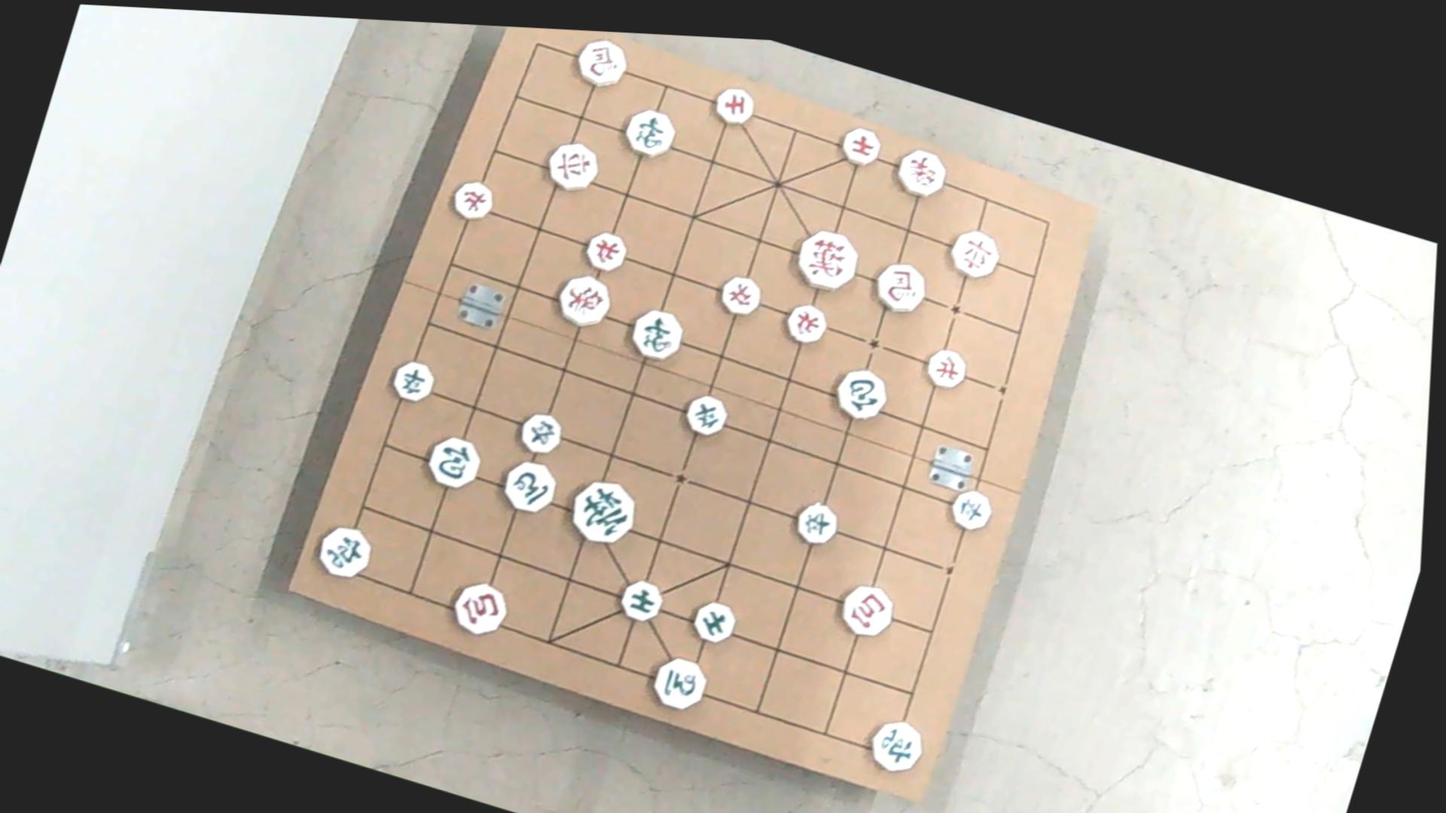cha_green: (862, 713, 926, 776), (313, 519, 376, 582)
cha_red: (542, 136, 602, 194), (945, 224, 1003, 282)
jol_green: (944, 484, 994, 534), (680, 391, 730, 440), (792, 499, 840, 550), (517, 409, 566, 458), (389, 356, 438, 404)
jol_red: (715, 271, 764, 319), (582, 228, 630, 276), (782, 300, 830, 347), (450, 175, 497, 222), (923, 347, 970, 394)
ma_green: (647, 650, 710, 714), (498, 455, 560, 518)
ma_red: (871, 257, 932, 318), (570, 35, 630, 93)
po_green: (830, 364, 892, 427), (423, 431, 484, 492)
po_red: (448, 577, 511, 641), (836, 578, 898, 641)
sa_green: (616, 577, 667, 626), (690, 595, 740, 644)
sa_red: (710, 83, 758, 129), (837, 126, 883, 170)
sang_green: (625, 305, 686, 366), (621, 105, 680, 163)
sang_red: (551, 269, 617, 333), (892, 144, 950, 201)
wang_green: (565, 473, 641, 550)
wang_red: (792, 225, 864, 298)
